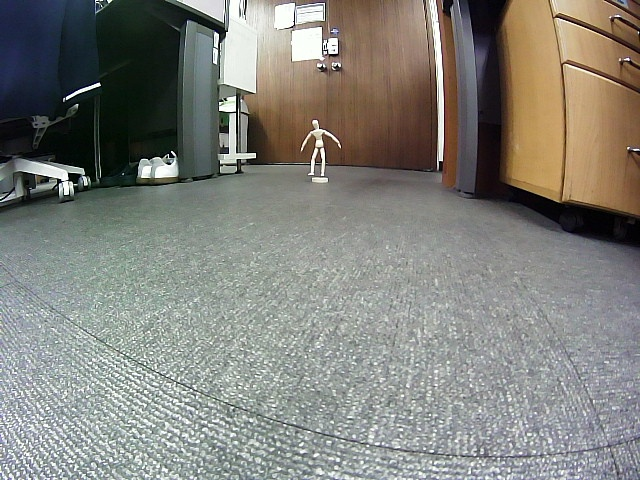person: (300, 120, 341, 177)
